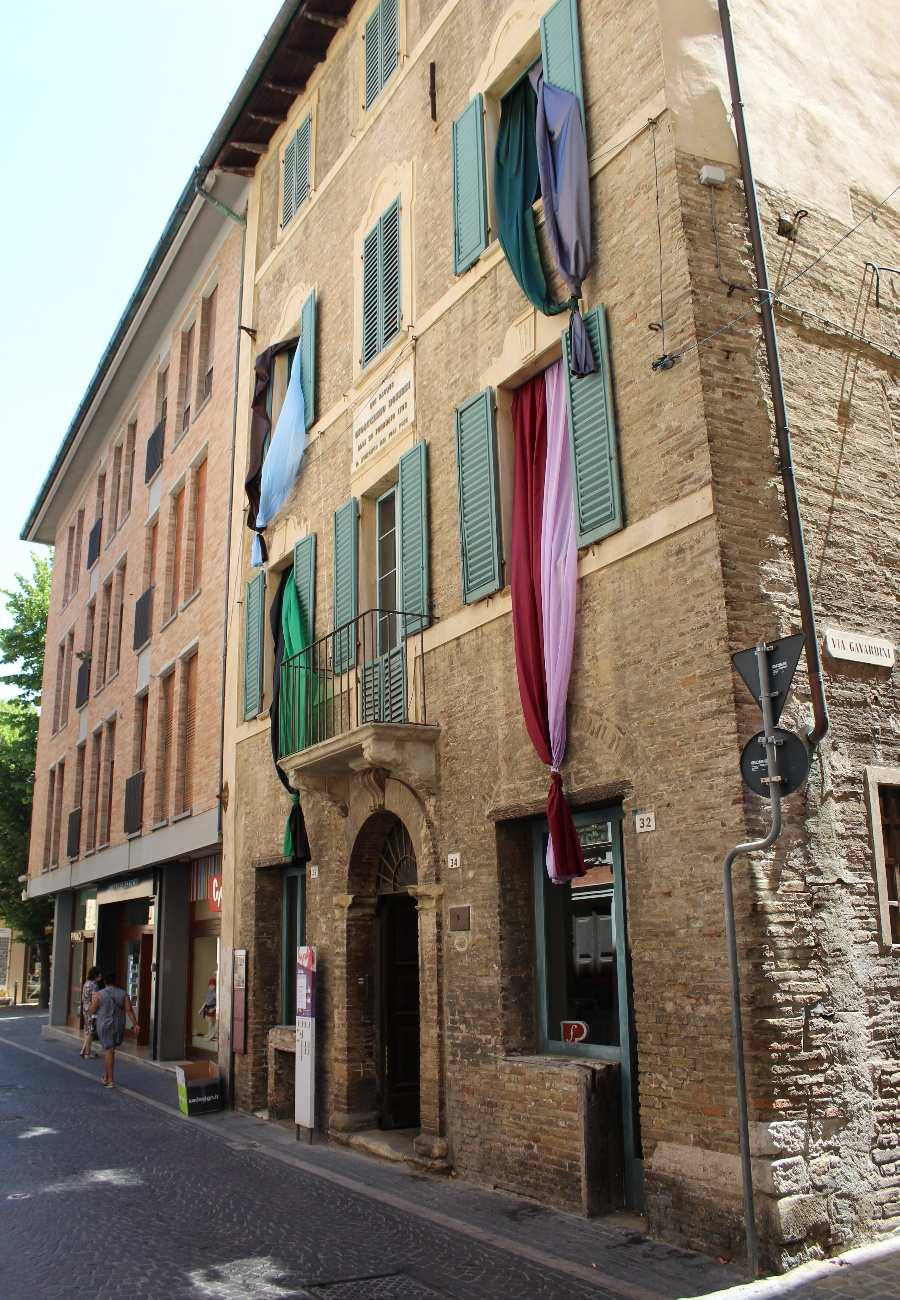Casa Rossini: (216, 1, 778, 1257)
